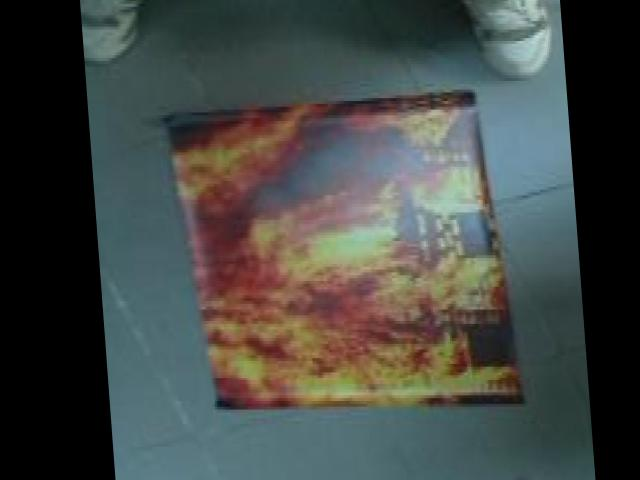fire-poster: (156, 86, 520, 414)
